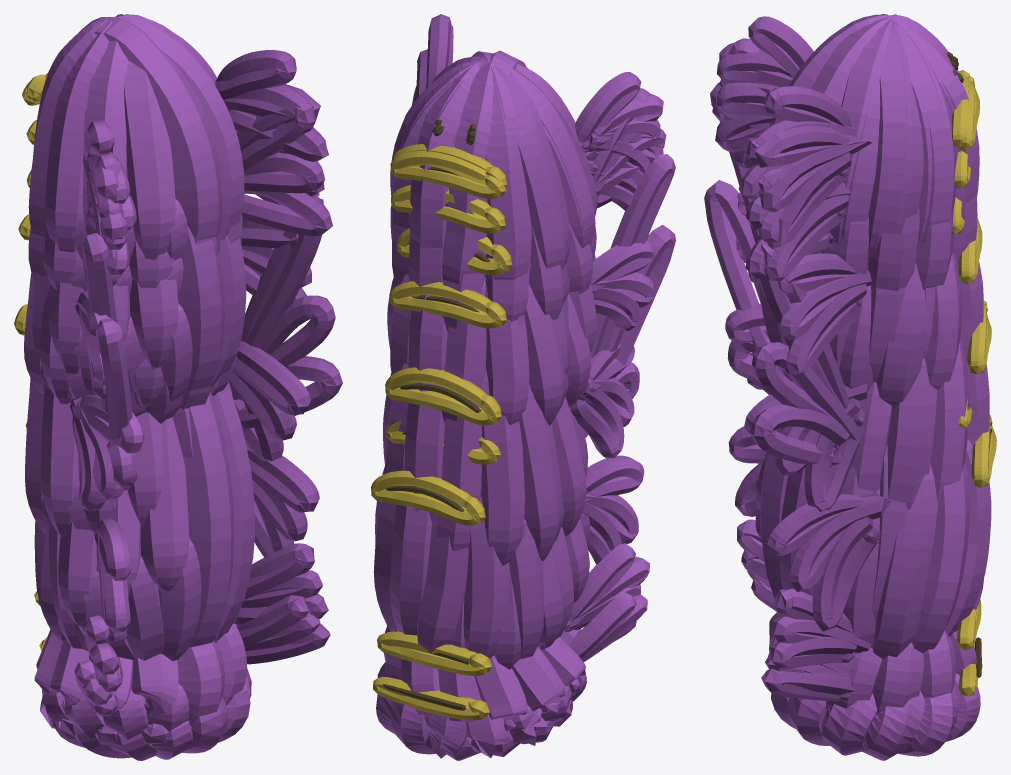
The model's file is Cherbpurple.fbx.
3 views of the same model, side by side, from view 1: azimuth 30°, elevation 25°; view 2: azimuth 150°, elevation 25°; view 3: azimuth 270°, elevation 25° (orthographic). The views are drawn at different scales.
Visible parts, largest first — view 1: NewLayer0; view 2: NewLayer0; view 3: NewLayer0.
Part boxes in pixels (bbox=[...]): NewLayer0: bbox=[14, 14, 342, 760]; NewLayer0: bbox=[371, 14, 675, 760]; NewLayer0: bbox=[704, 14, 996, 760].
Bounding box in the file's own units: 3.31 × 8.51 × 3.16.
